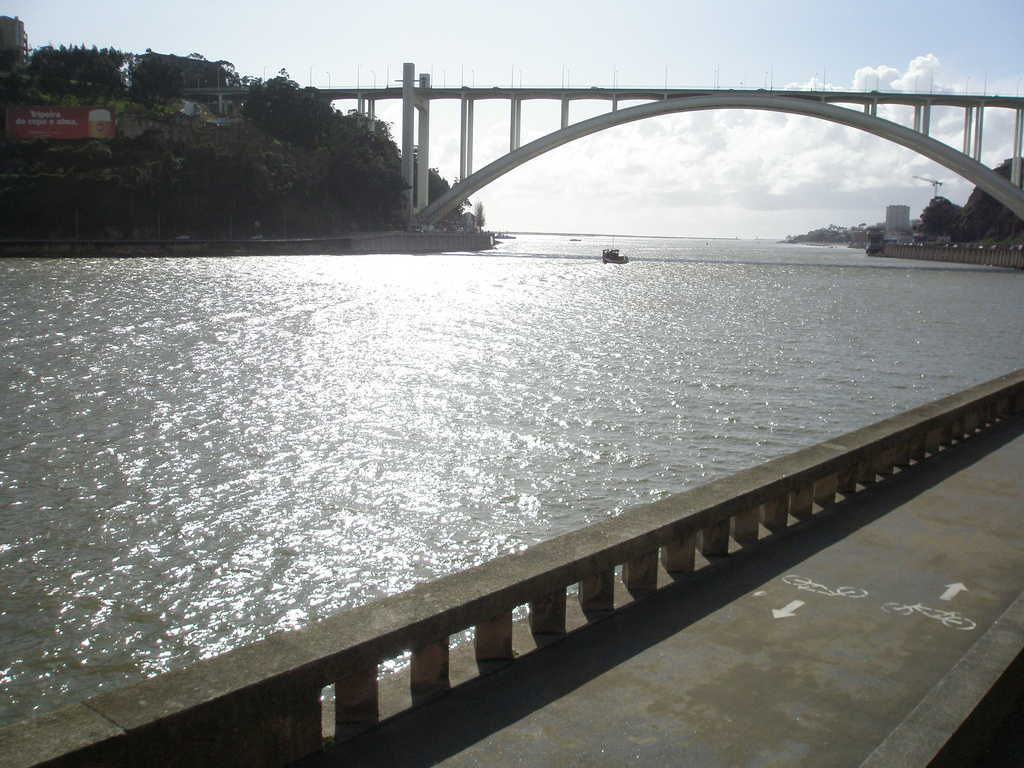arrabida: (313, 61, 1023, 232)
